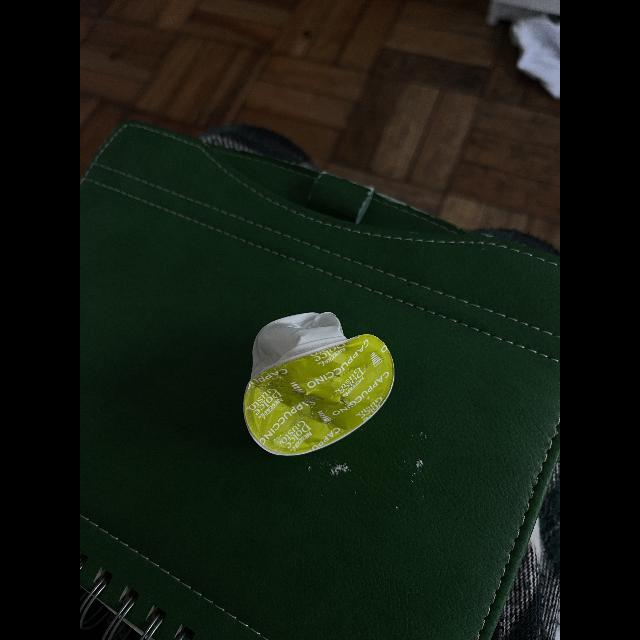damaged_capsule: (234, 299, 413, 461)
